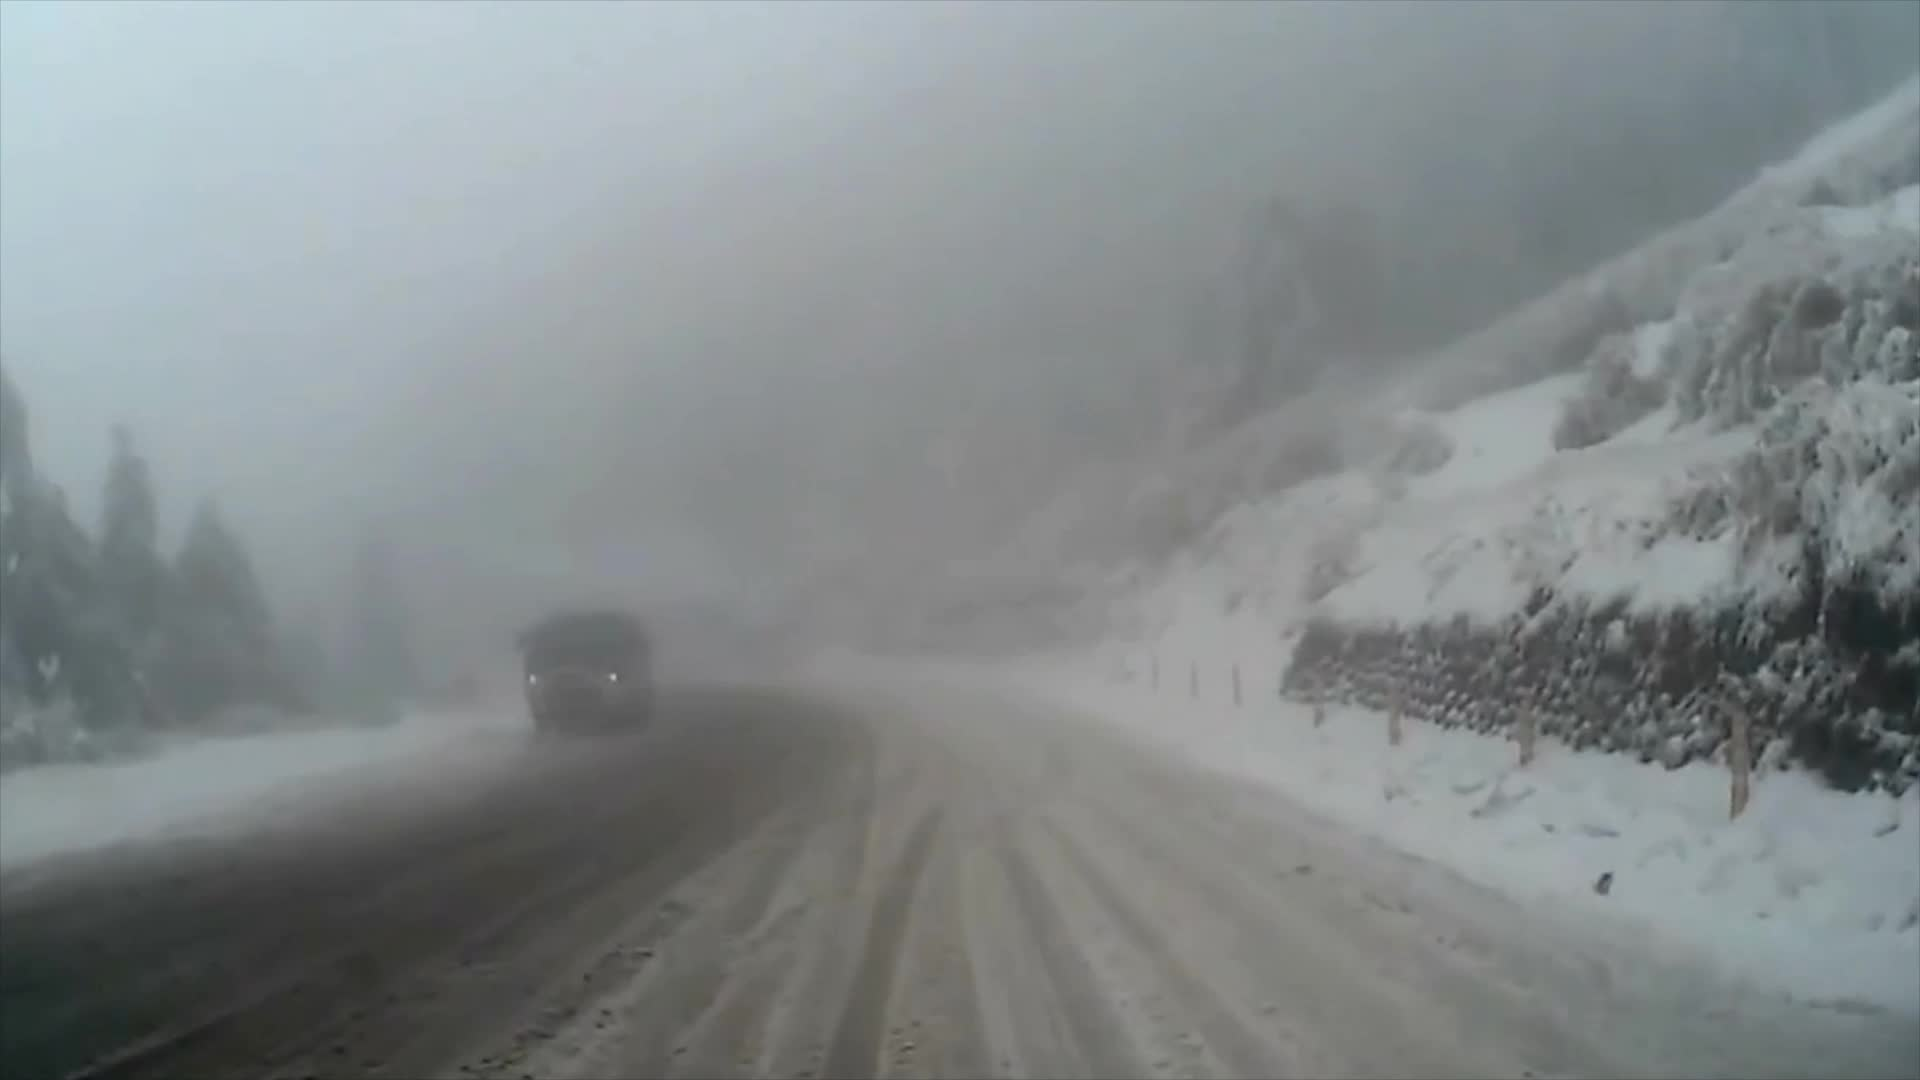vehicle: (516, 607, 654, 735)
